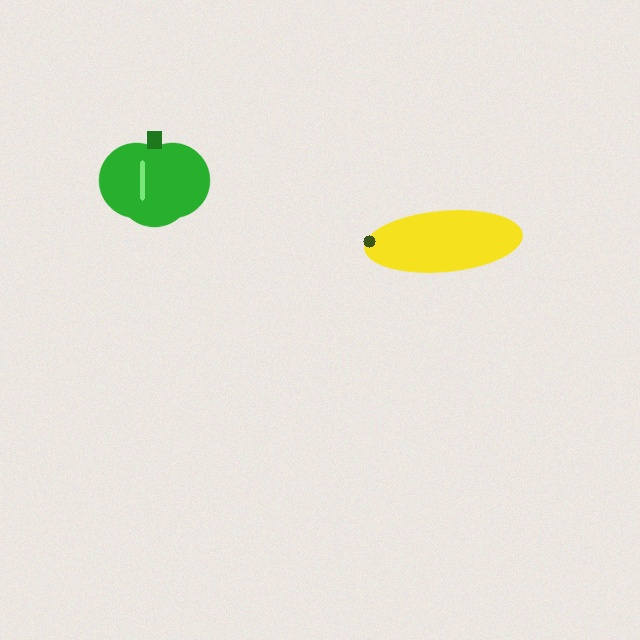Fresh banana: (361, 204, 525, 278)
Fresh bell pepper: (99, 131, 209, 226)
